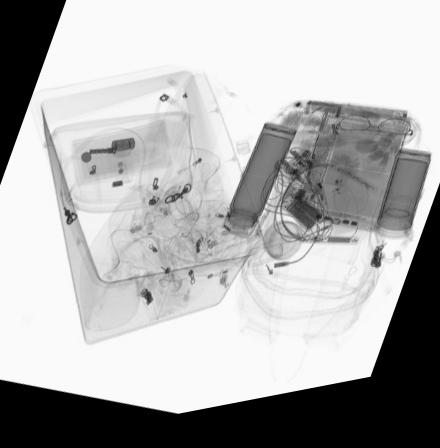Powerbank: (274, 199, 324, 244)
